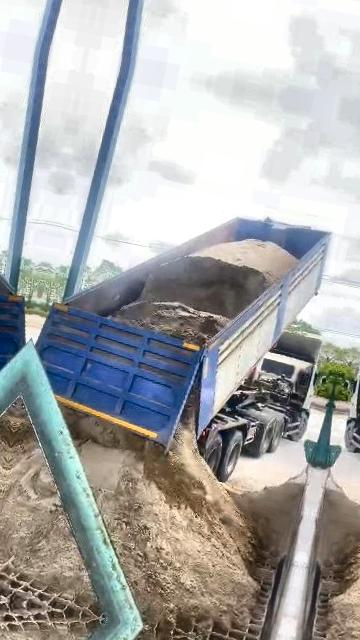sand: (63, 407, 258, 631), (113, 239, 296, 342), (0, 417, 93, 602), (232, 480, 303, 557)
